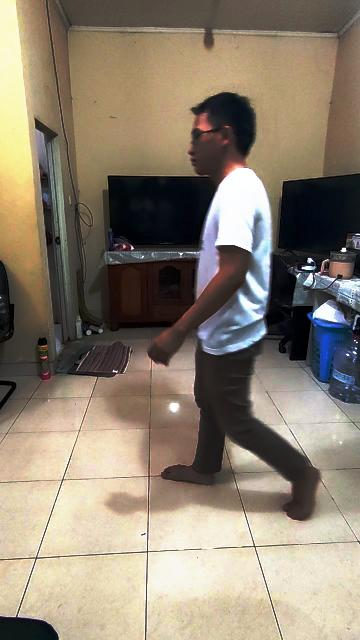berjalan: (128, 90, 328, 524)
